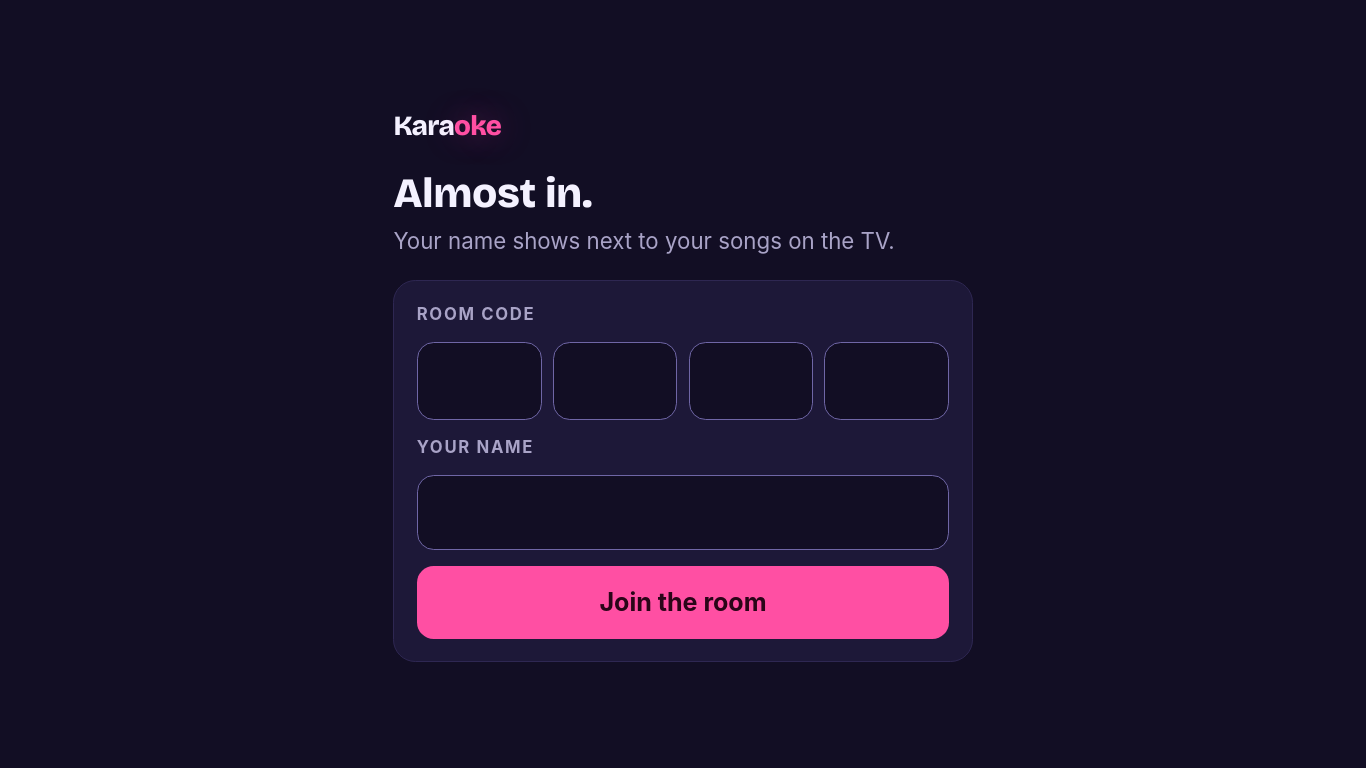
Test: Join › says why a song could not be added and lets you try again
Type "ABCD" into the field labelled "Room code" at point(750, 381), box x1=417 y1=342 x2=1082 y2=420
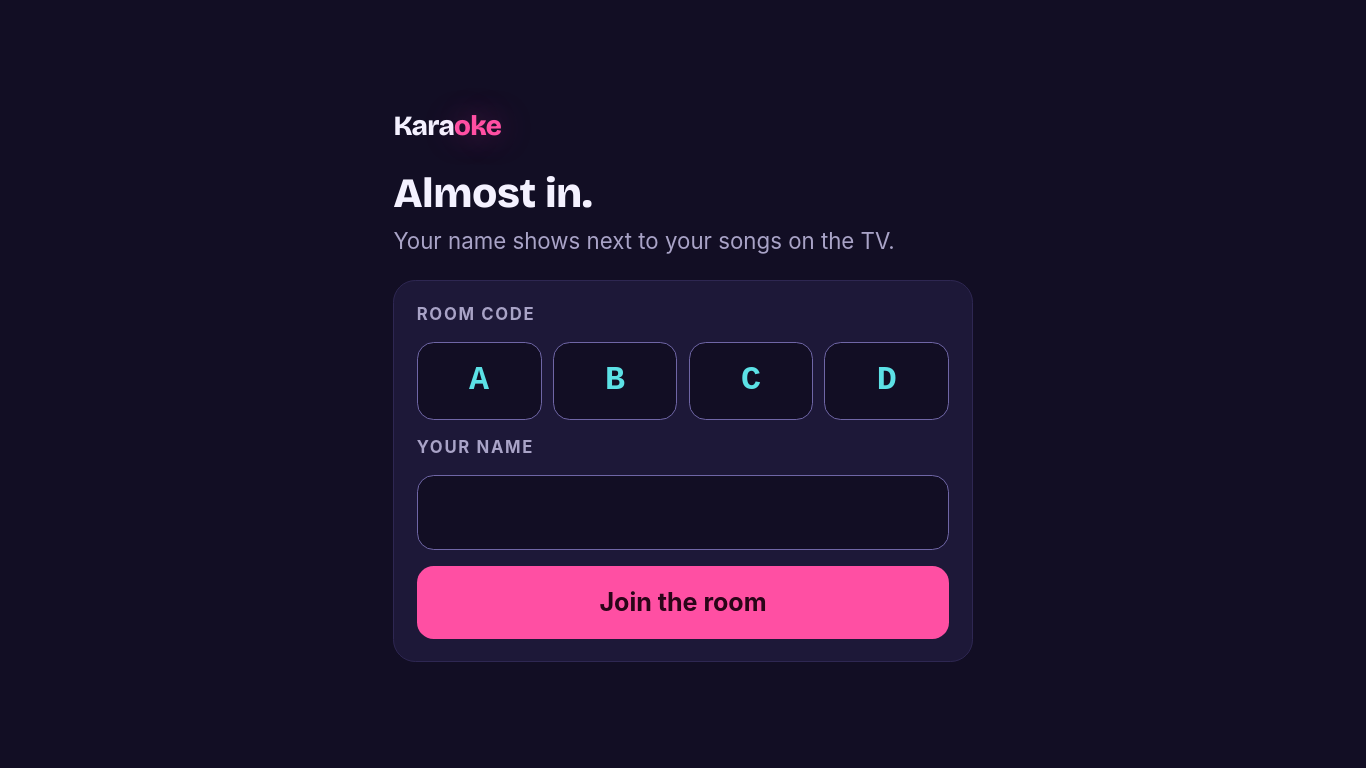
Type "Sam" into the field labelled "Your name" at point(683, 512), box x1=417 y1=475 x2=949 y2=550
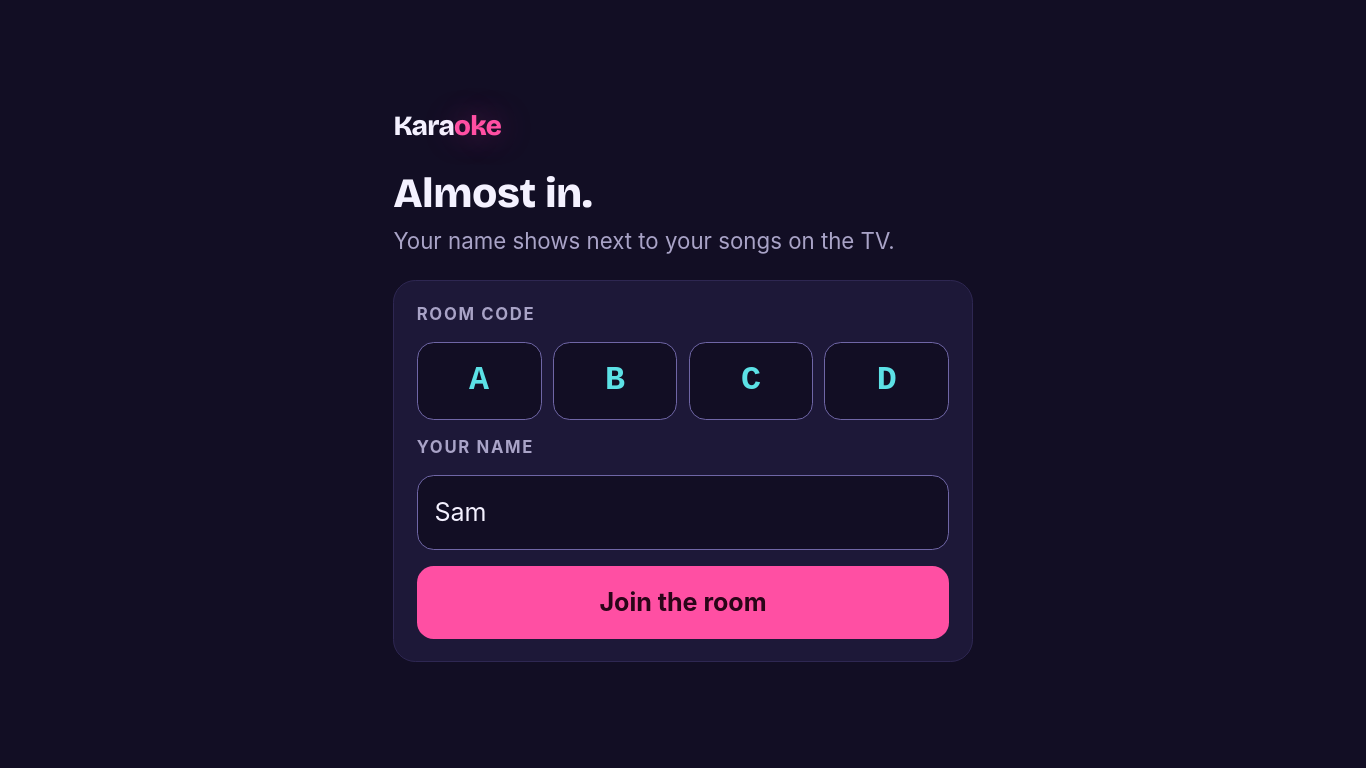
Click the button "Join the room" at point(683, 603), box x1=417 y1=566 x2=949 y2=639
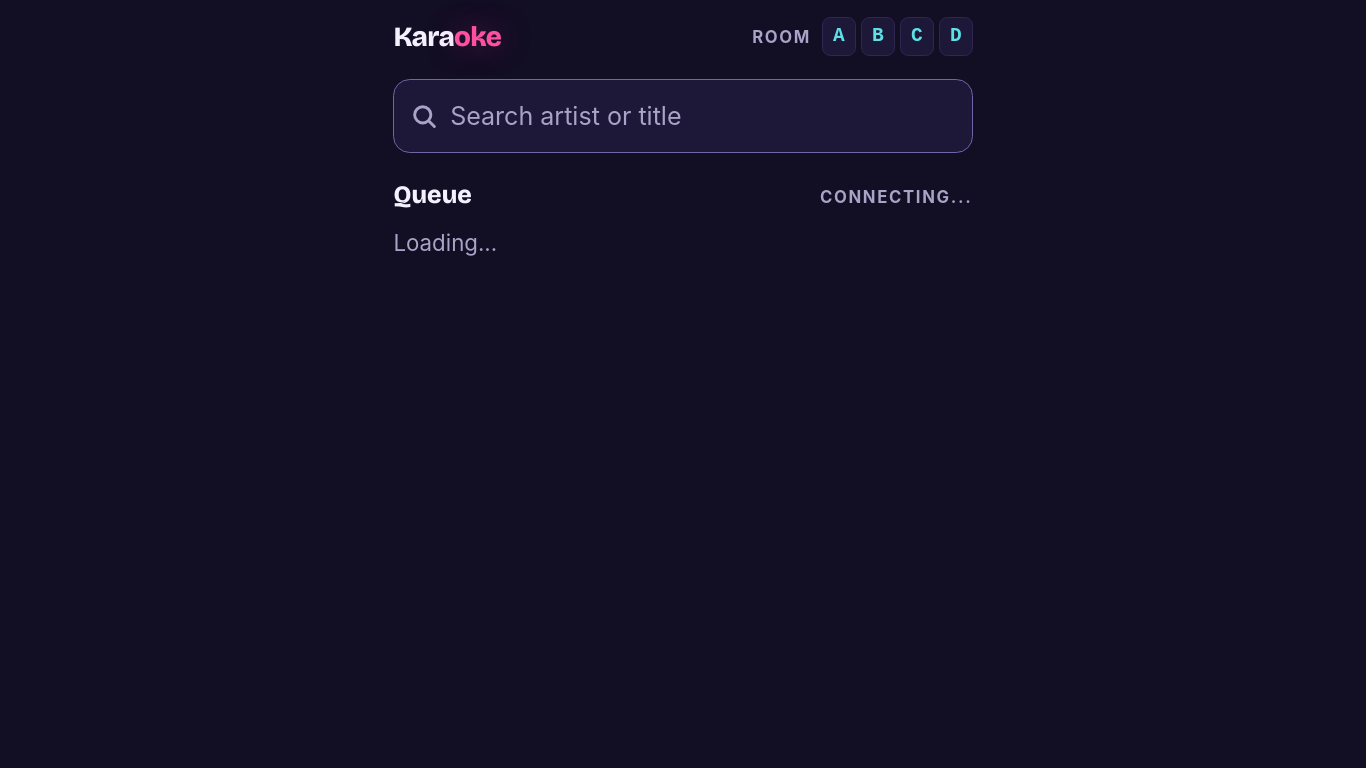
Type "queen" into the search field named "Search songs" at point(683, 116), box x1=394 y1=79 x2=973 y2=153
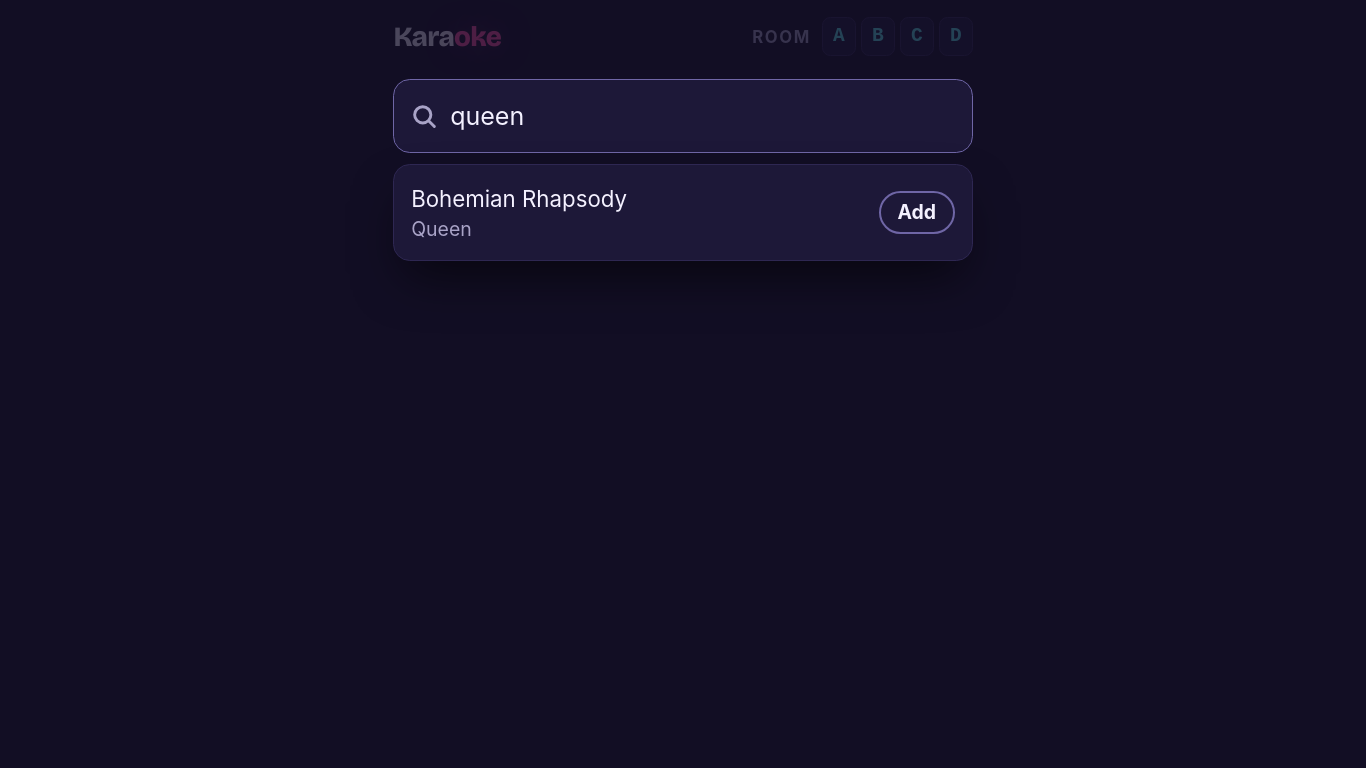
Click the button "Bohemian Rhapsody Queen Add" at point(519, 199), box x1=394 y1=165 x2=972 y2=260
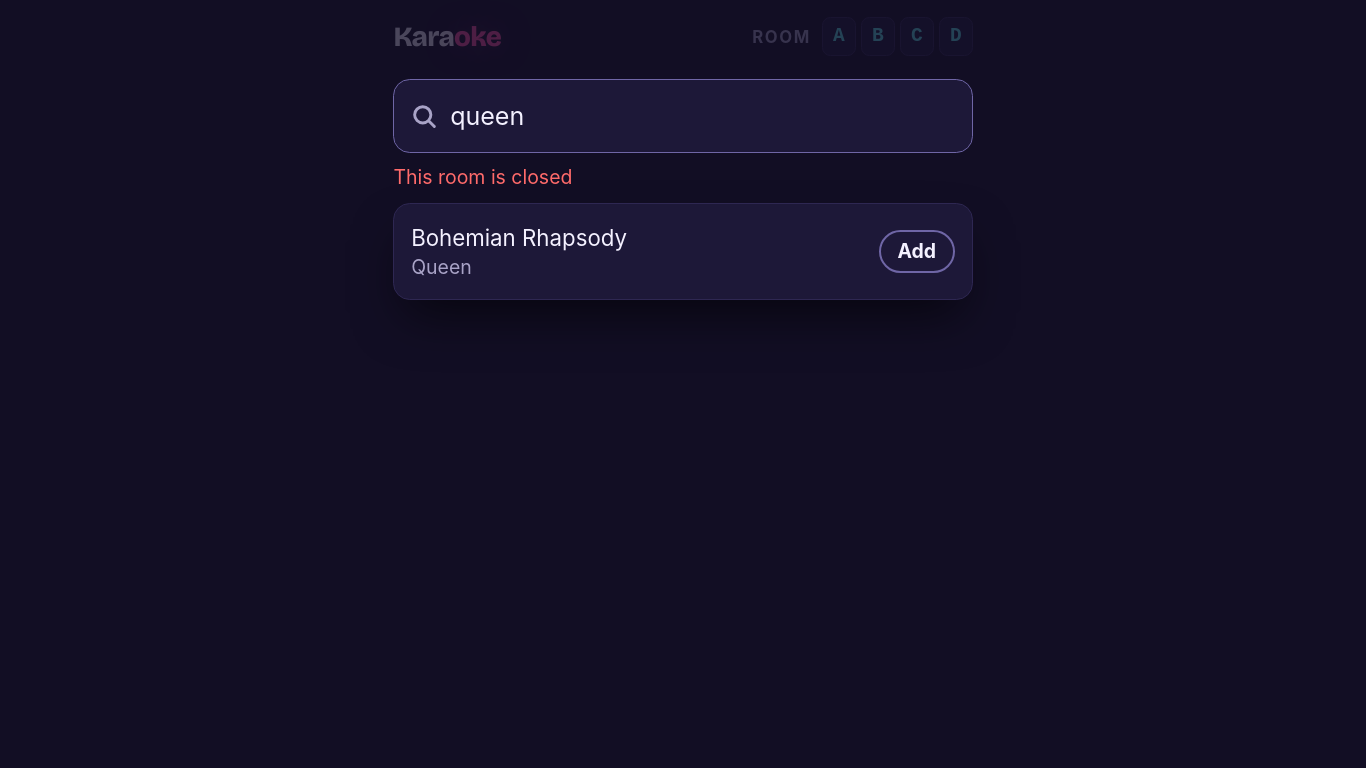
Expected: the button "Bohemian Rhapsody Queen Add" does not show "In queue", x1=394 y1=204 x2=972 y2=299
Result: the button "Bohemian Rhapsody Queen Add" is enabled at x1=394 y1=204 x2=972 y2=299
Result: the message reads "This room is closed" at x1=394 y1=165 x2=572 y2=189
